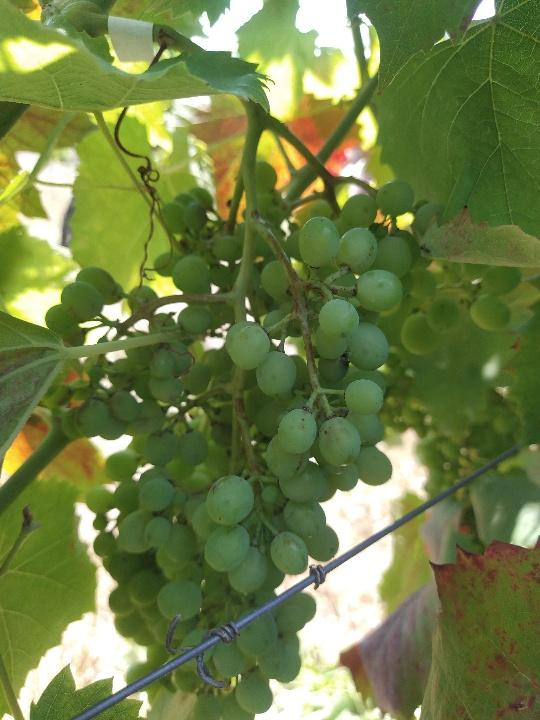grape: (43, 158, 531, 714)
